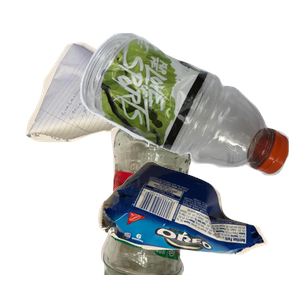glass: (98, 120, 286, 300)
paper: (23, 40, 223, 180)
plastic: (77, 30, 300, 198)
trash: (95, 158, 300, 300)
